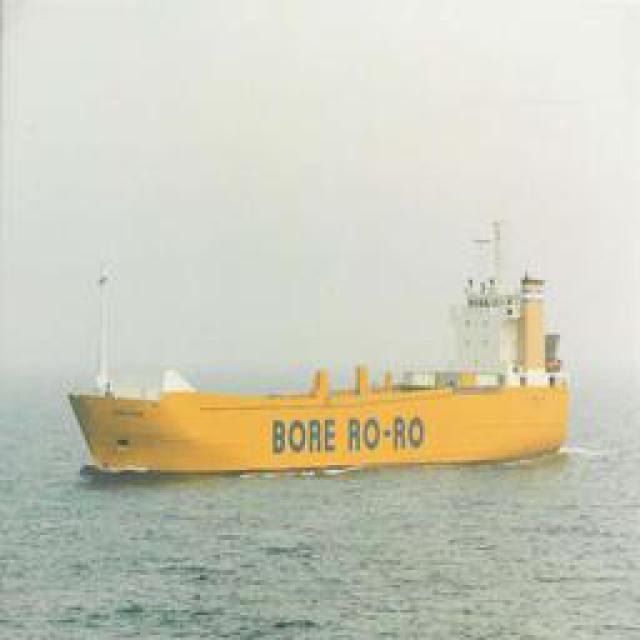Ship: (74, 361, 579, 476)
